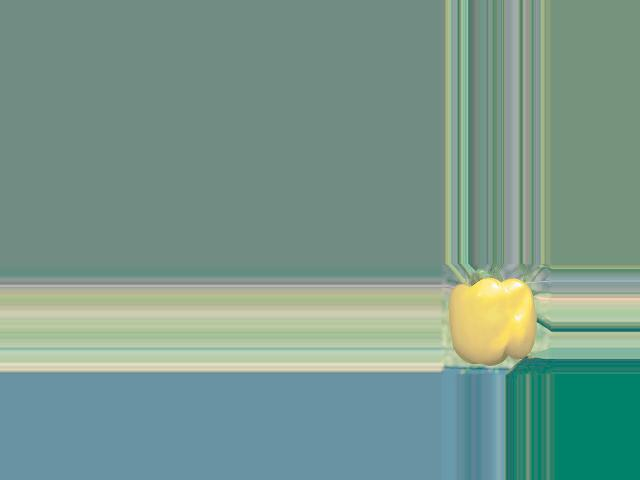bell_pepper: (443, 269, 543, 366)
